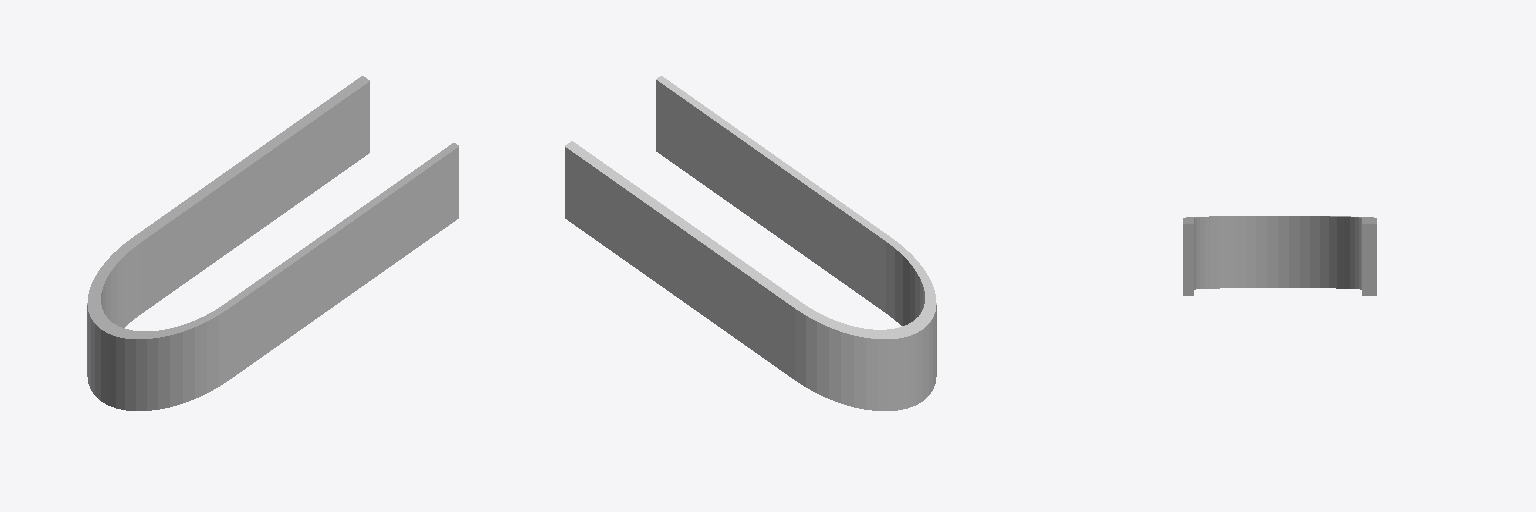
The model's file is wall6.obj.
The picture shows the model from 3 angles: view 1: azimuth 30°, elevation 25°; view 2: azimuth 150°, elevation 25°; view 3: azimuth 270°, elevation 25°; orthographic projection.
Visible parts, largest first — view 1: Mesh1 Group2 Group1 Model; view 2: Mesh1 Group2 Group1 Model; view 3: Mesh1 Group2 Group1 Model.
Boxes of the visible parts, <box> form: Mesh1 Group2 Group1 Model: <box>87,76,458,410</box>; Mesh1 Group2 Group1 Model: <box>565,76,936,410</box>; Mesh1 Group2 Group1 Model: <box>1183,216,1376,295</box>.
Size of the model in its own units: 17.5 by 11.57 by 9.45.